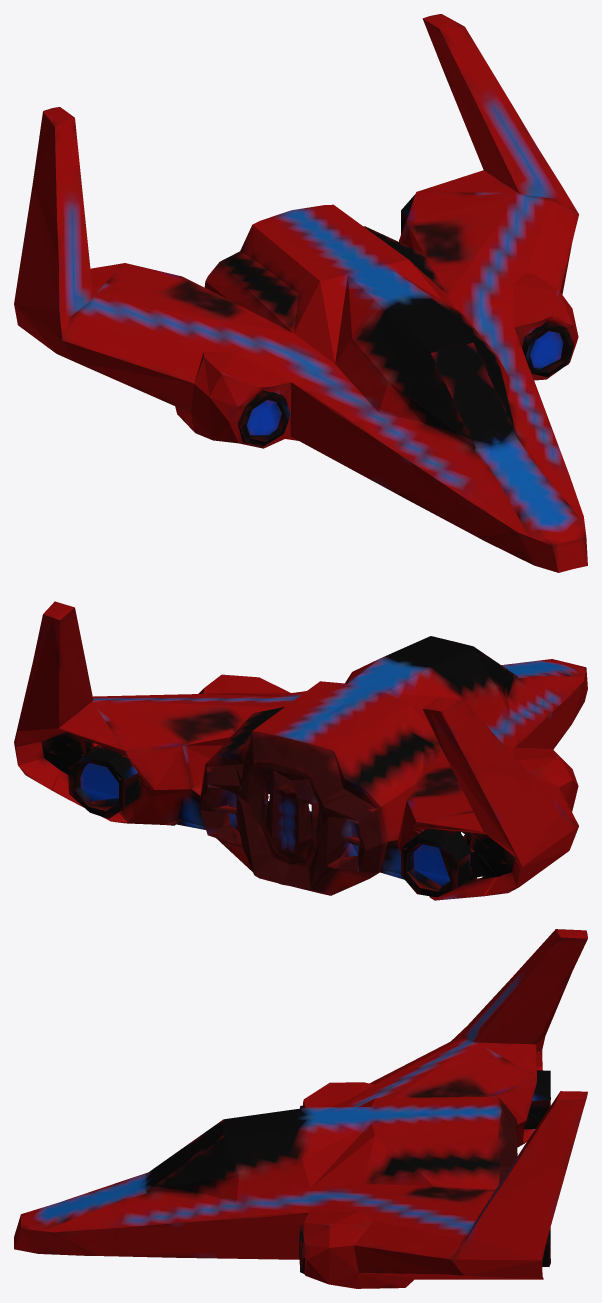
3 views of the same model, one above another, from view 1: azimuth 30°, elevation 25°; view 2: azimuth 150°, elevation 25°; view 3: azimuth 270°, elevation 25° (orthographic). The views are drawn at different scales.
Visible parts, largest first — view 1: world; view 2: world; view 3: world.
Boxes of the visible parts, bbox=[...] form: world: bbox=[14, 14, 587, 572]; world: bbox=[14, 601, 587, 900]; world: bbox=[14, 929, 587, 1288].
Size of the model in its own units: 0.8959 by 0.4388 by 0.9969.
1 material, 1 textured.
